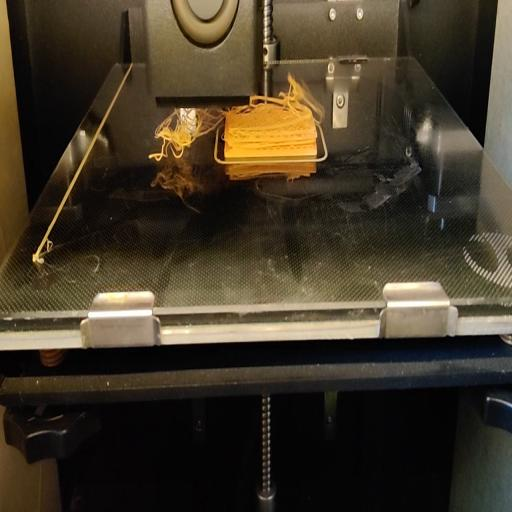spaghetti: (150, 109, 220, 159)
